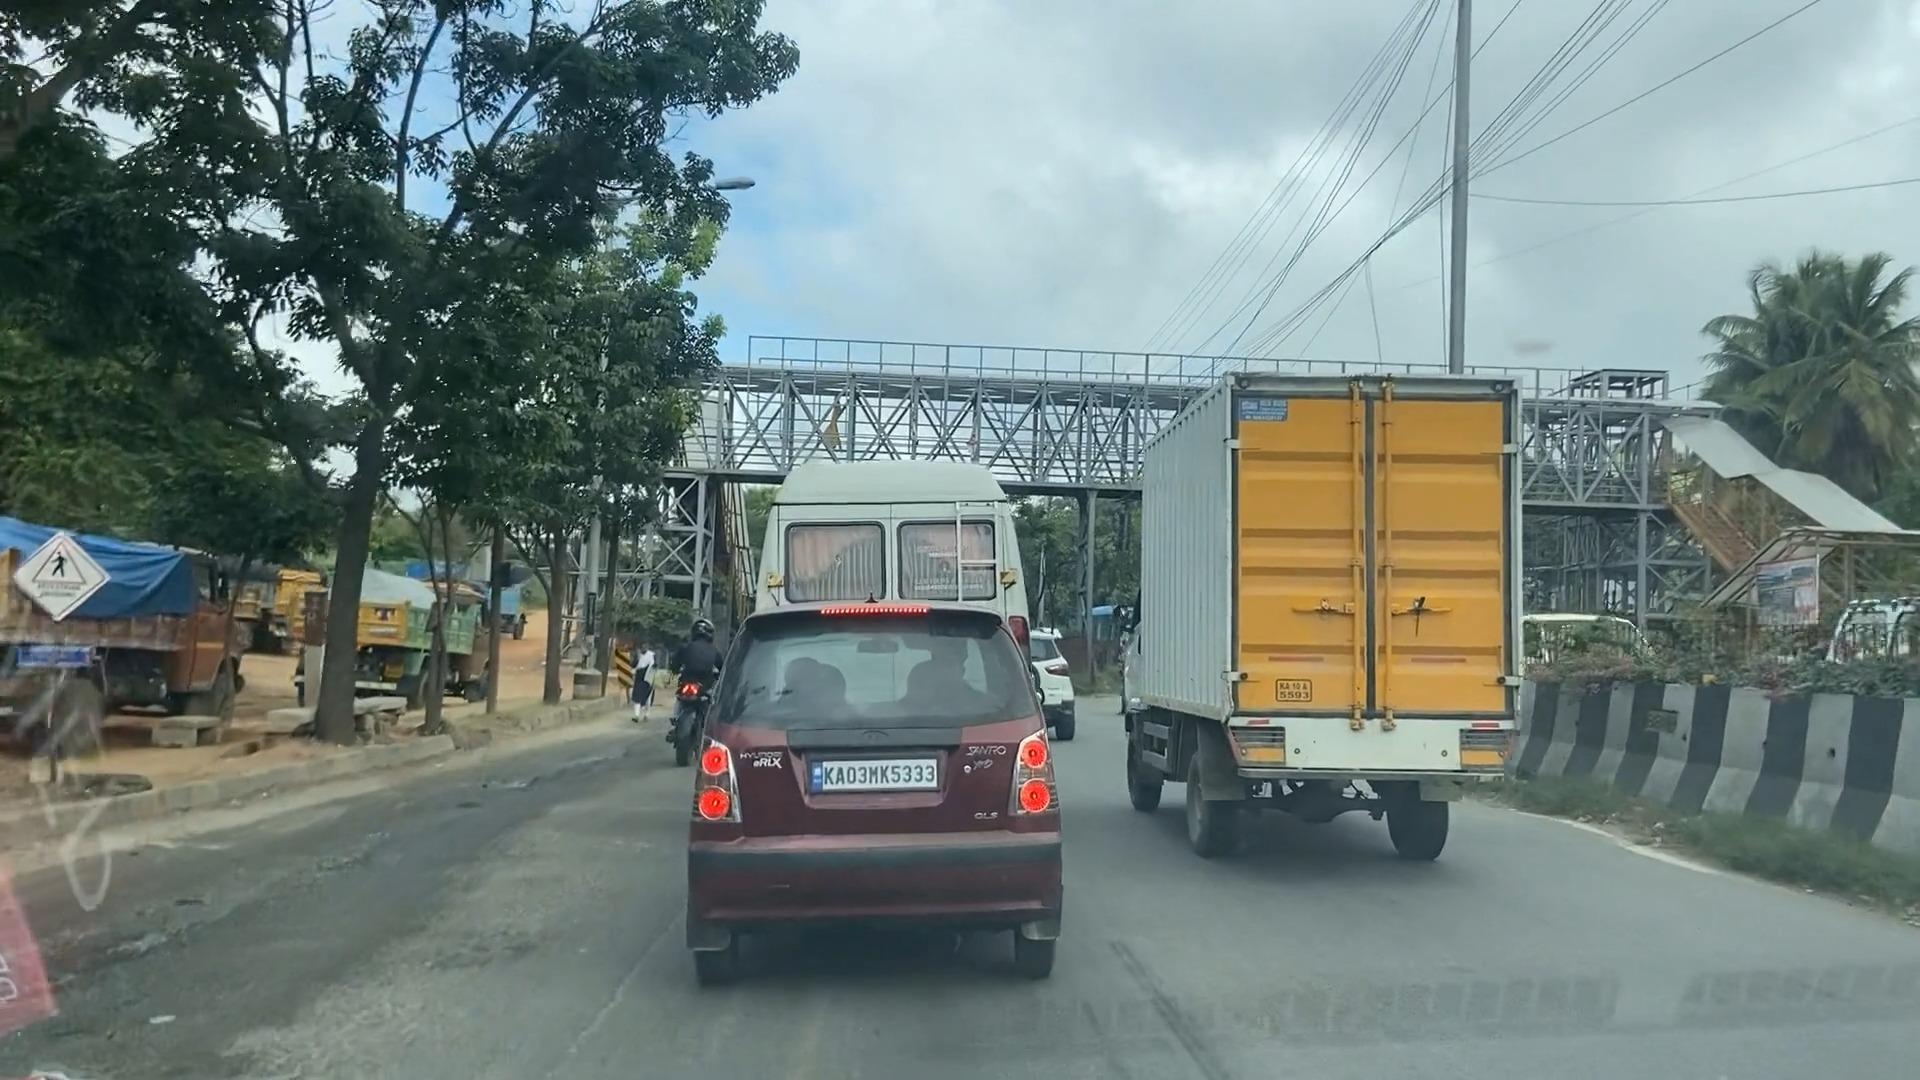HMV: (1120, 388, 1509, 855)
LMV: (702, 600, 1059, 976)
RoadDamages: (88, 742, 617, 988), (529, 939, 662, 1076)
